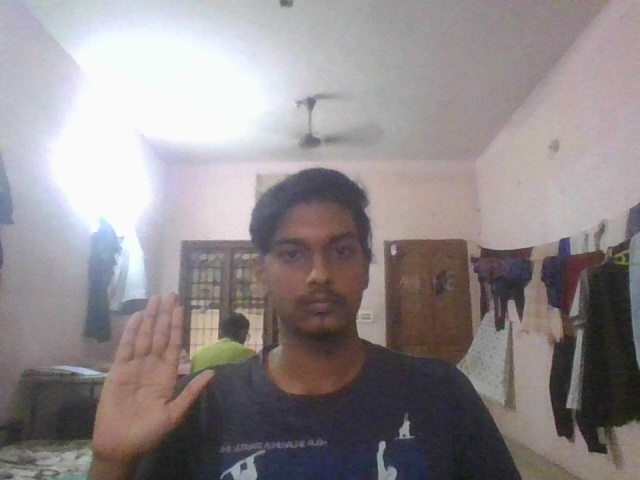hello: (86, 288, 220, 462)
